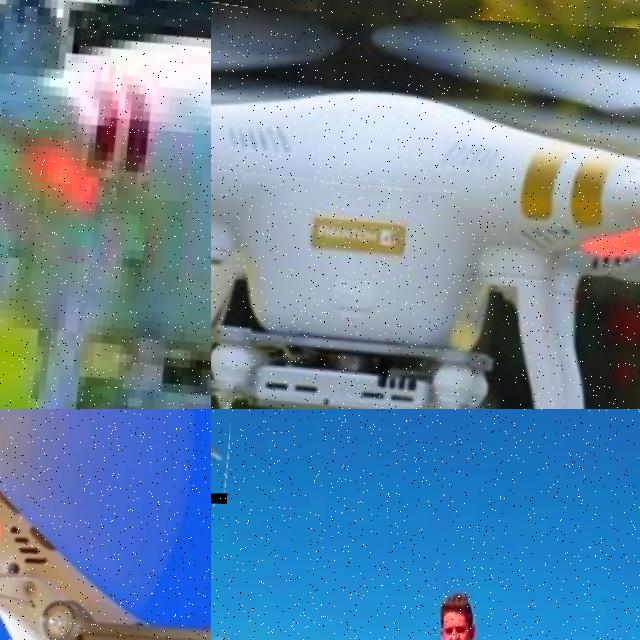0: (211, 0, 640, 409)
drone: (0, 0, 211, 409), (0, 409, 211, 640)
